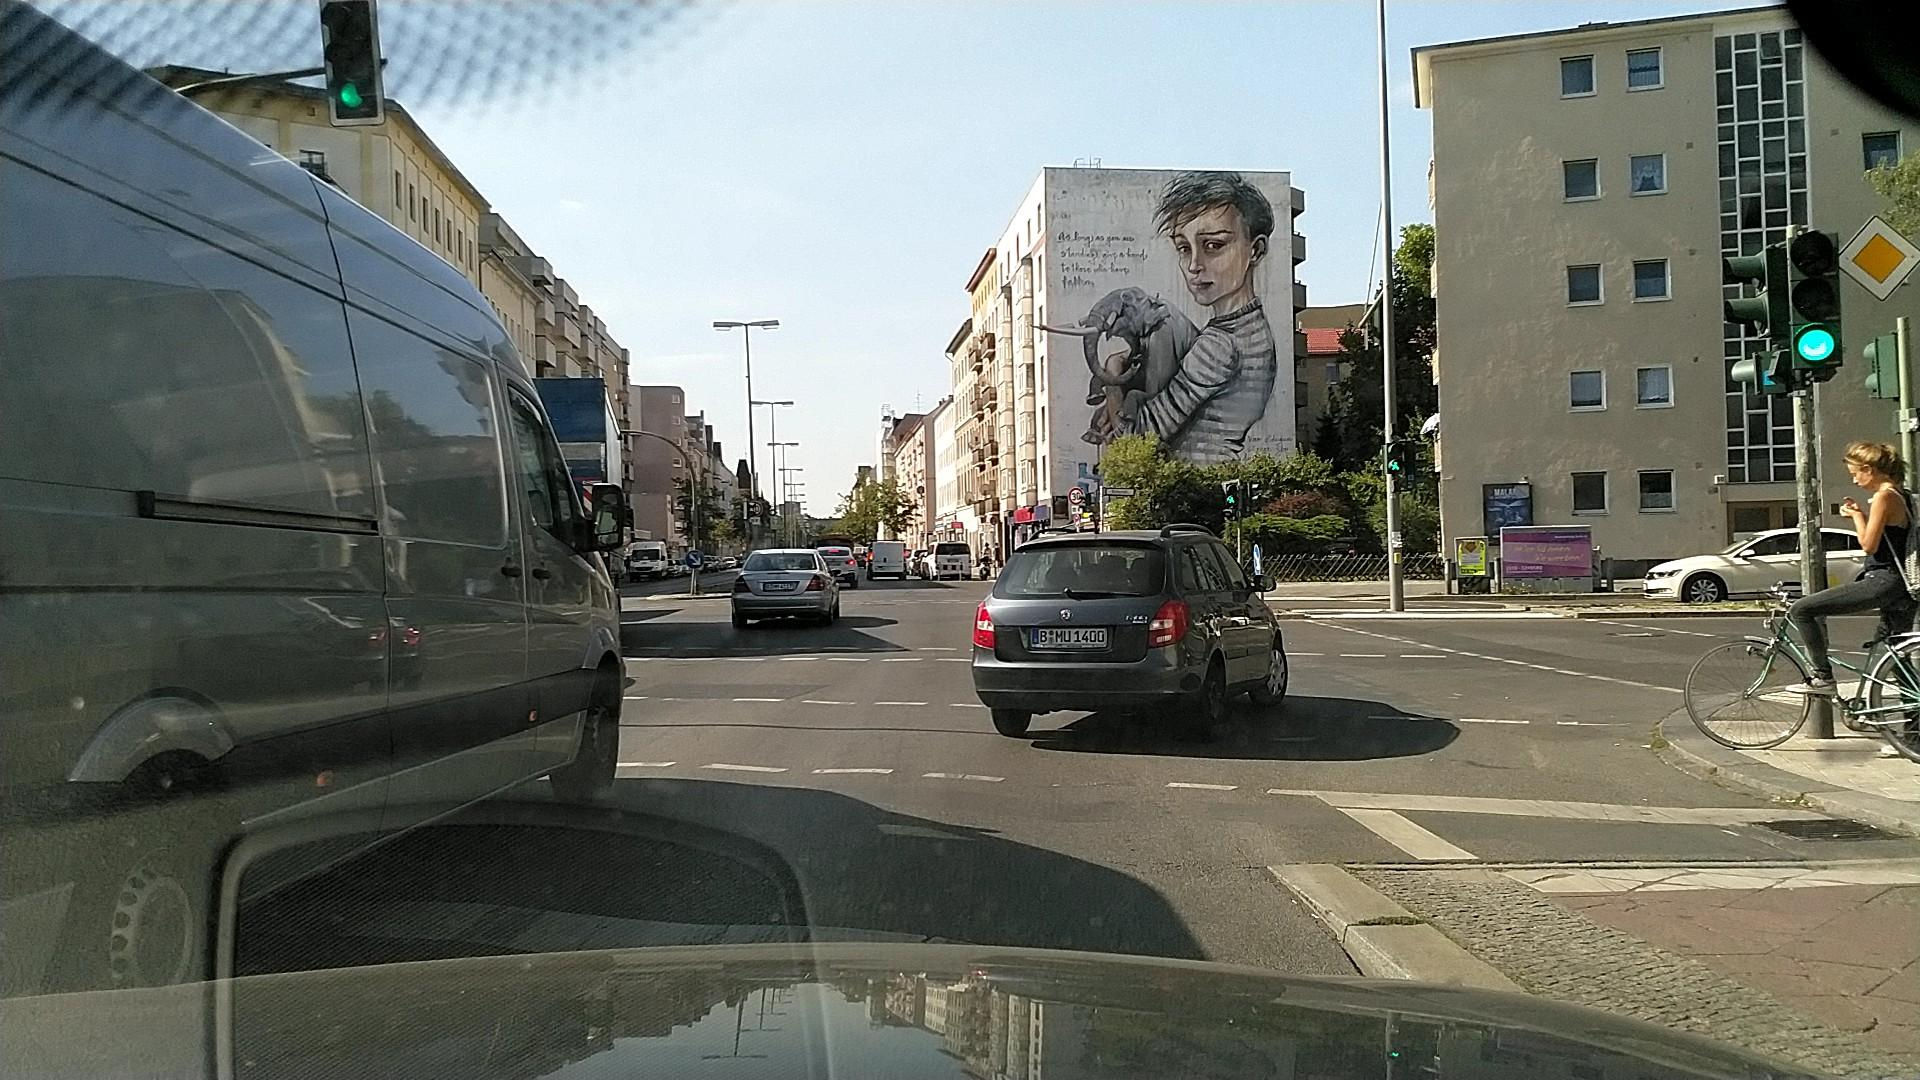Human face: (1161, 185, 1271, 307), (1842, 445, 1886, 492)
Vehicle registration plate: (1028, 625, 1109, 650), (762, 582, 797, 590)
